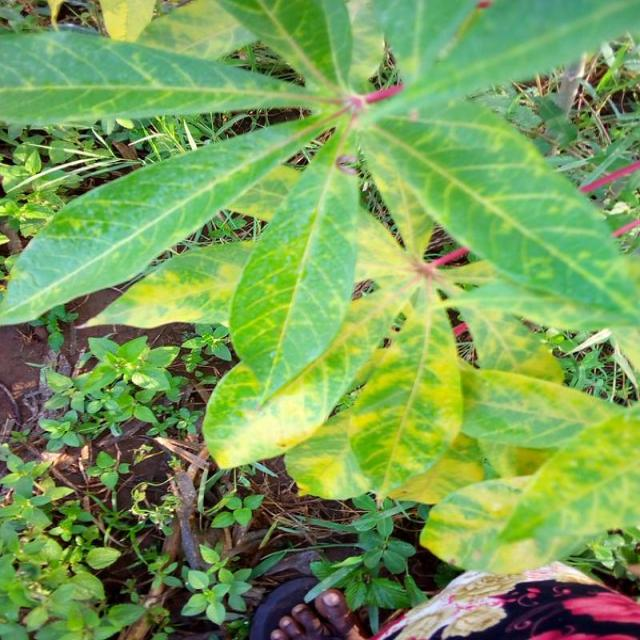cassava leaf: (1, 0, 638, 577)
